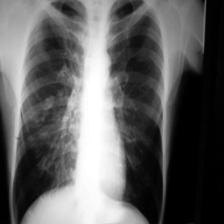tuberculosis: (10, 0, 166, 224)
